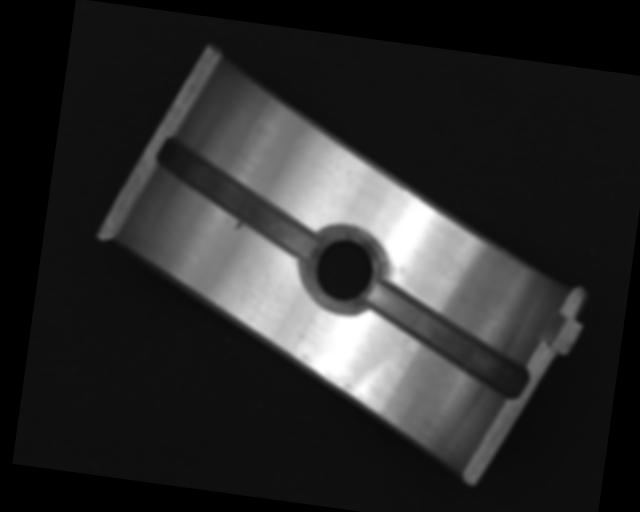bruise: (232, 220, 246, 233)
gap: (147, 137, 325, 261), (357, 281, 536, 400)
hole: (301, 225, 386, 316)
